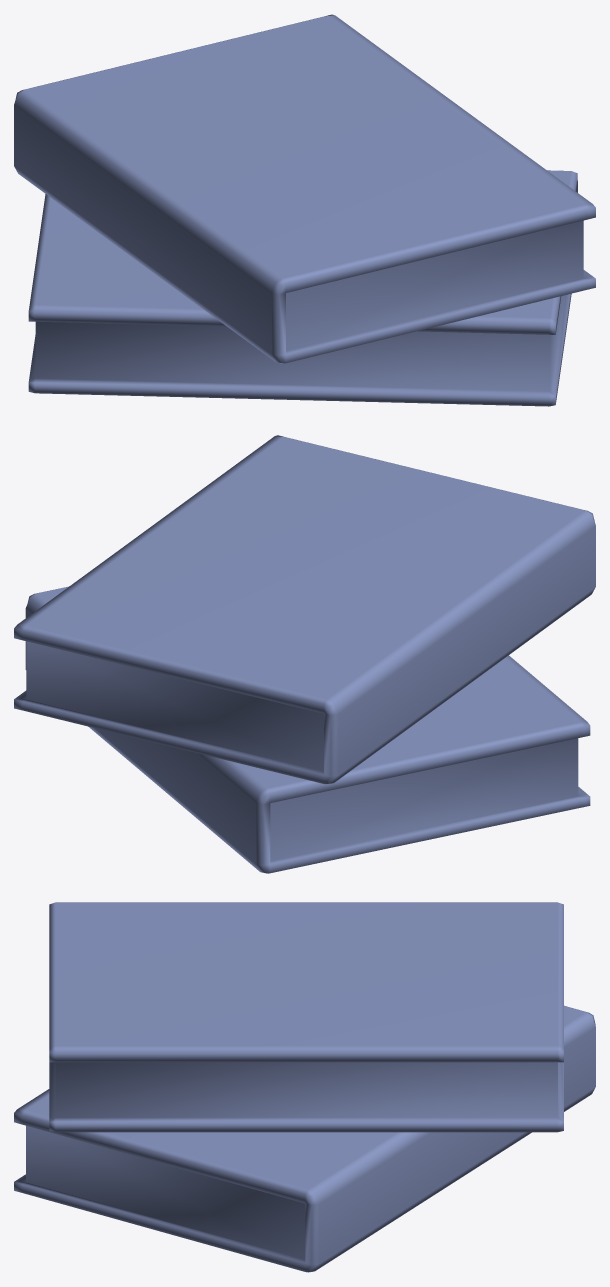
The model's file is Book_Pile_05_Lod0.fbx.
3 renders of one model, top to bottom at view 1: azimuth 30°, elevation 25°; view 2: azimuth 150°, elevation 25°; view 3: azimuth 270°, elevation 25°, orthographic. The views are drawn at different scales.
Parts seen in each view (by area): view 1: Book_Pile_05_Lod0; view 2: Book_Pile_05_Lod0; view 3: Book_Pile_05_Lod0.
Part boxes in pixels (left/top/right/bottom): Book_Pile_05_Lod0: left=14, top=14, right=595, bottom=406; Book_Pile_05_Lod0: left=14, top=435, right=595, bottom=873; Book_Pile_05_Lod0: left=14, top=902, right=595, bottom=1272.
Bounding box in the file's own units: 31.06 × 9.37 × 28.87.
